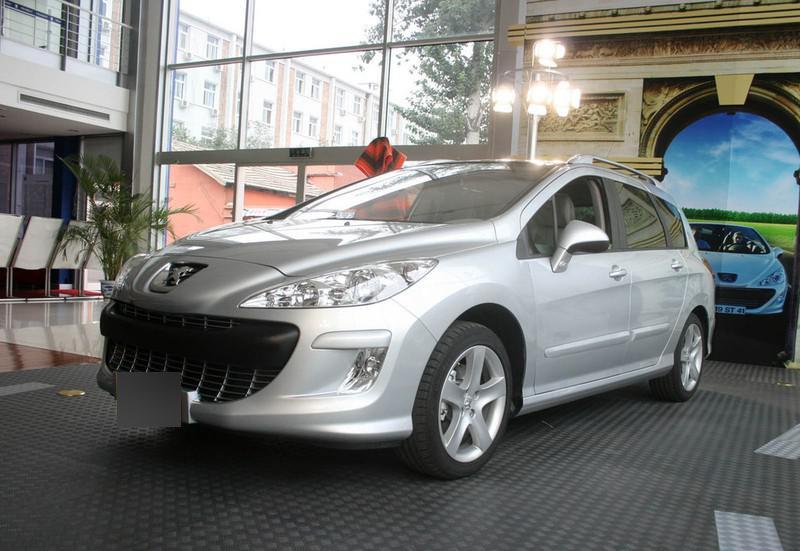Wagon: (93, 152, 715, 483)
